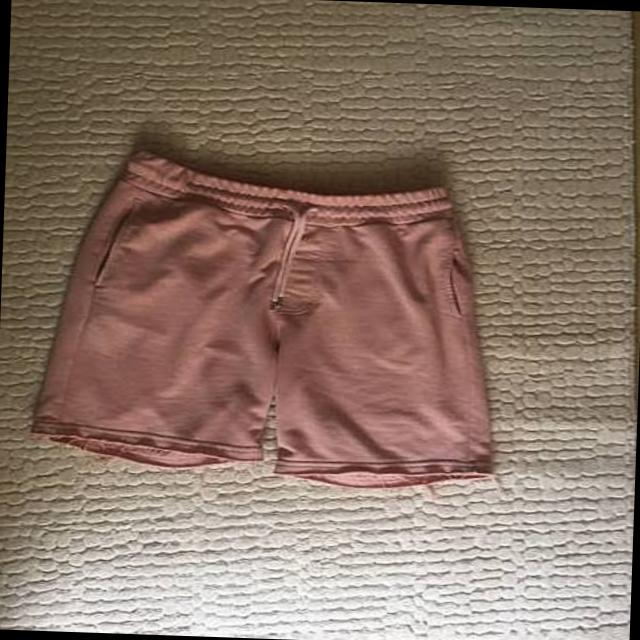SHORT: (15, 135, 522, 501)
